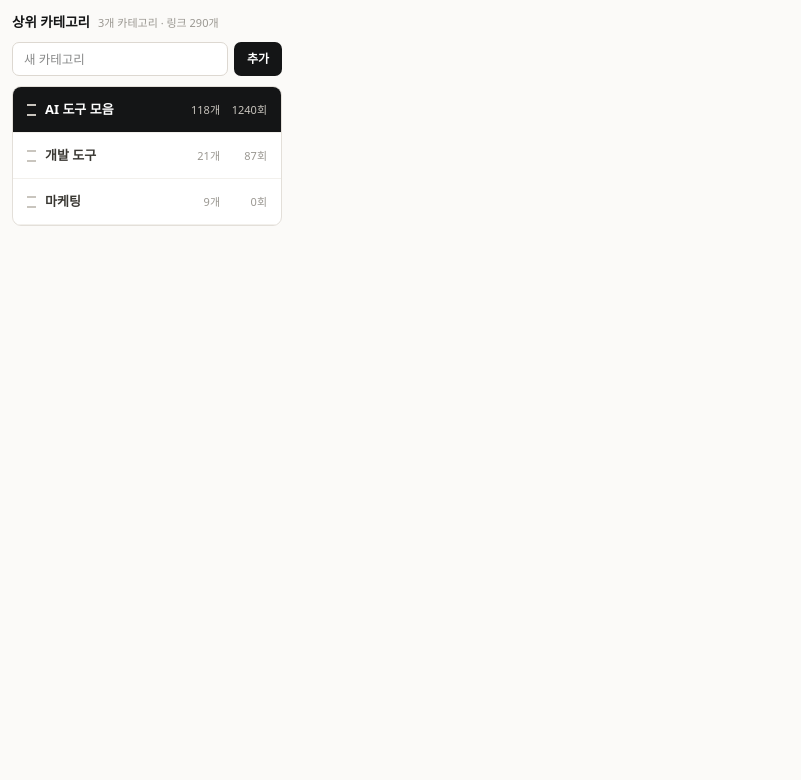
CategoryPanel — 카테고리 추가 › 성공하면 입력을 비우고 프로토타입 문구로 알린다
Type "리서치" into the field labelled "새 카테고리" at (120, 59), box [12, 42, 228, 76]
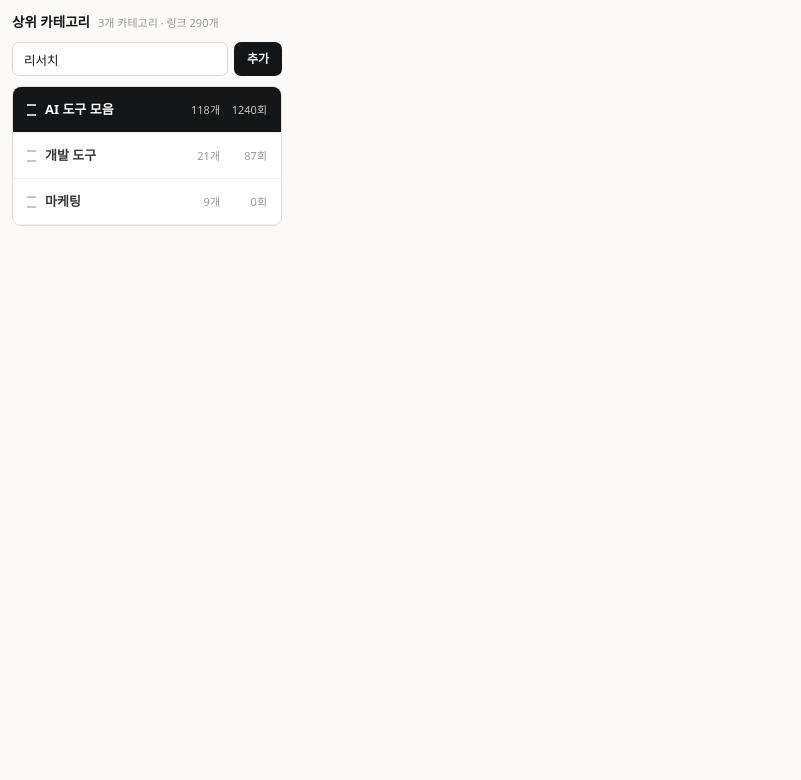
Click the button "추가" at (258, 59), box [234, 42, 282, 76]
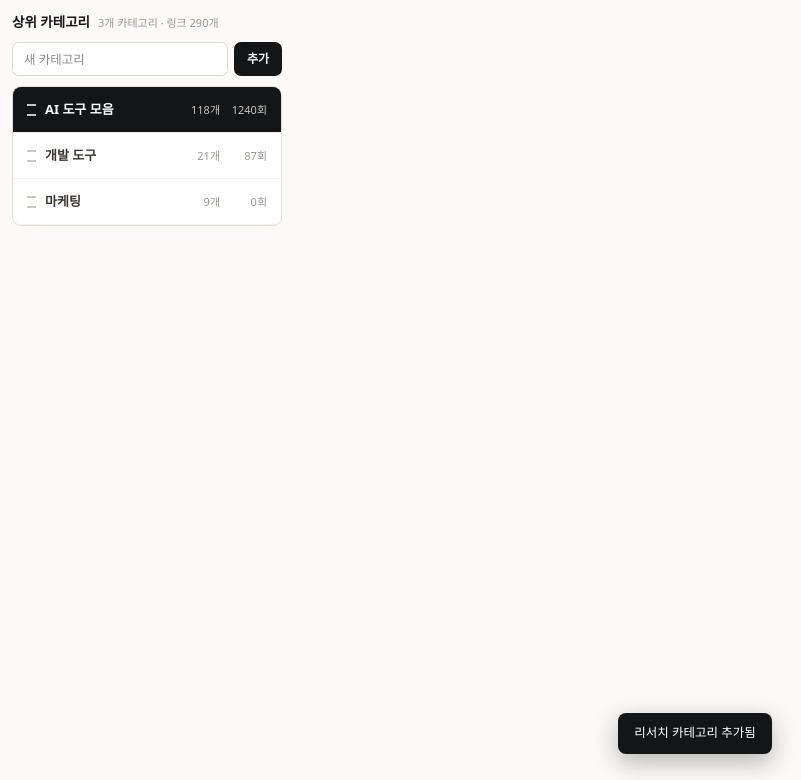
Check: the field labelled "새 카테고리" is empty, box [12, 42, 228, 76]
Check: the message reads "리서치 카테고리 추가됨", box [634, 724, 756, 741]
